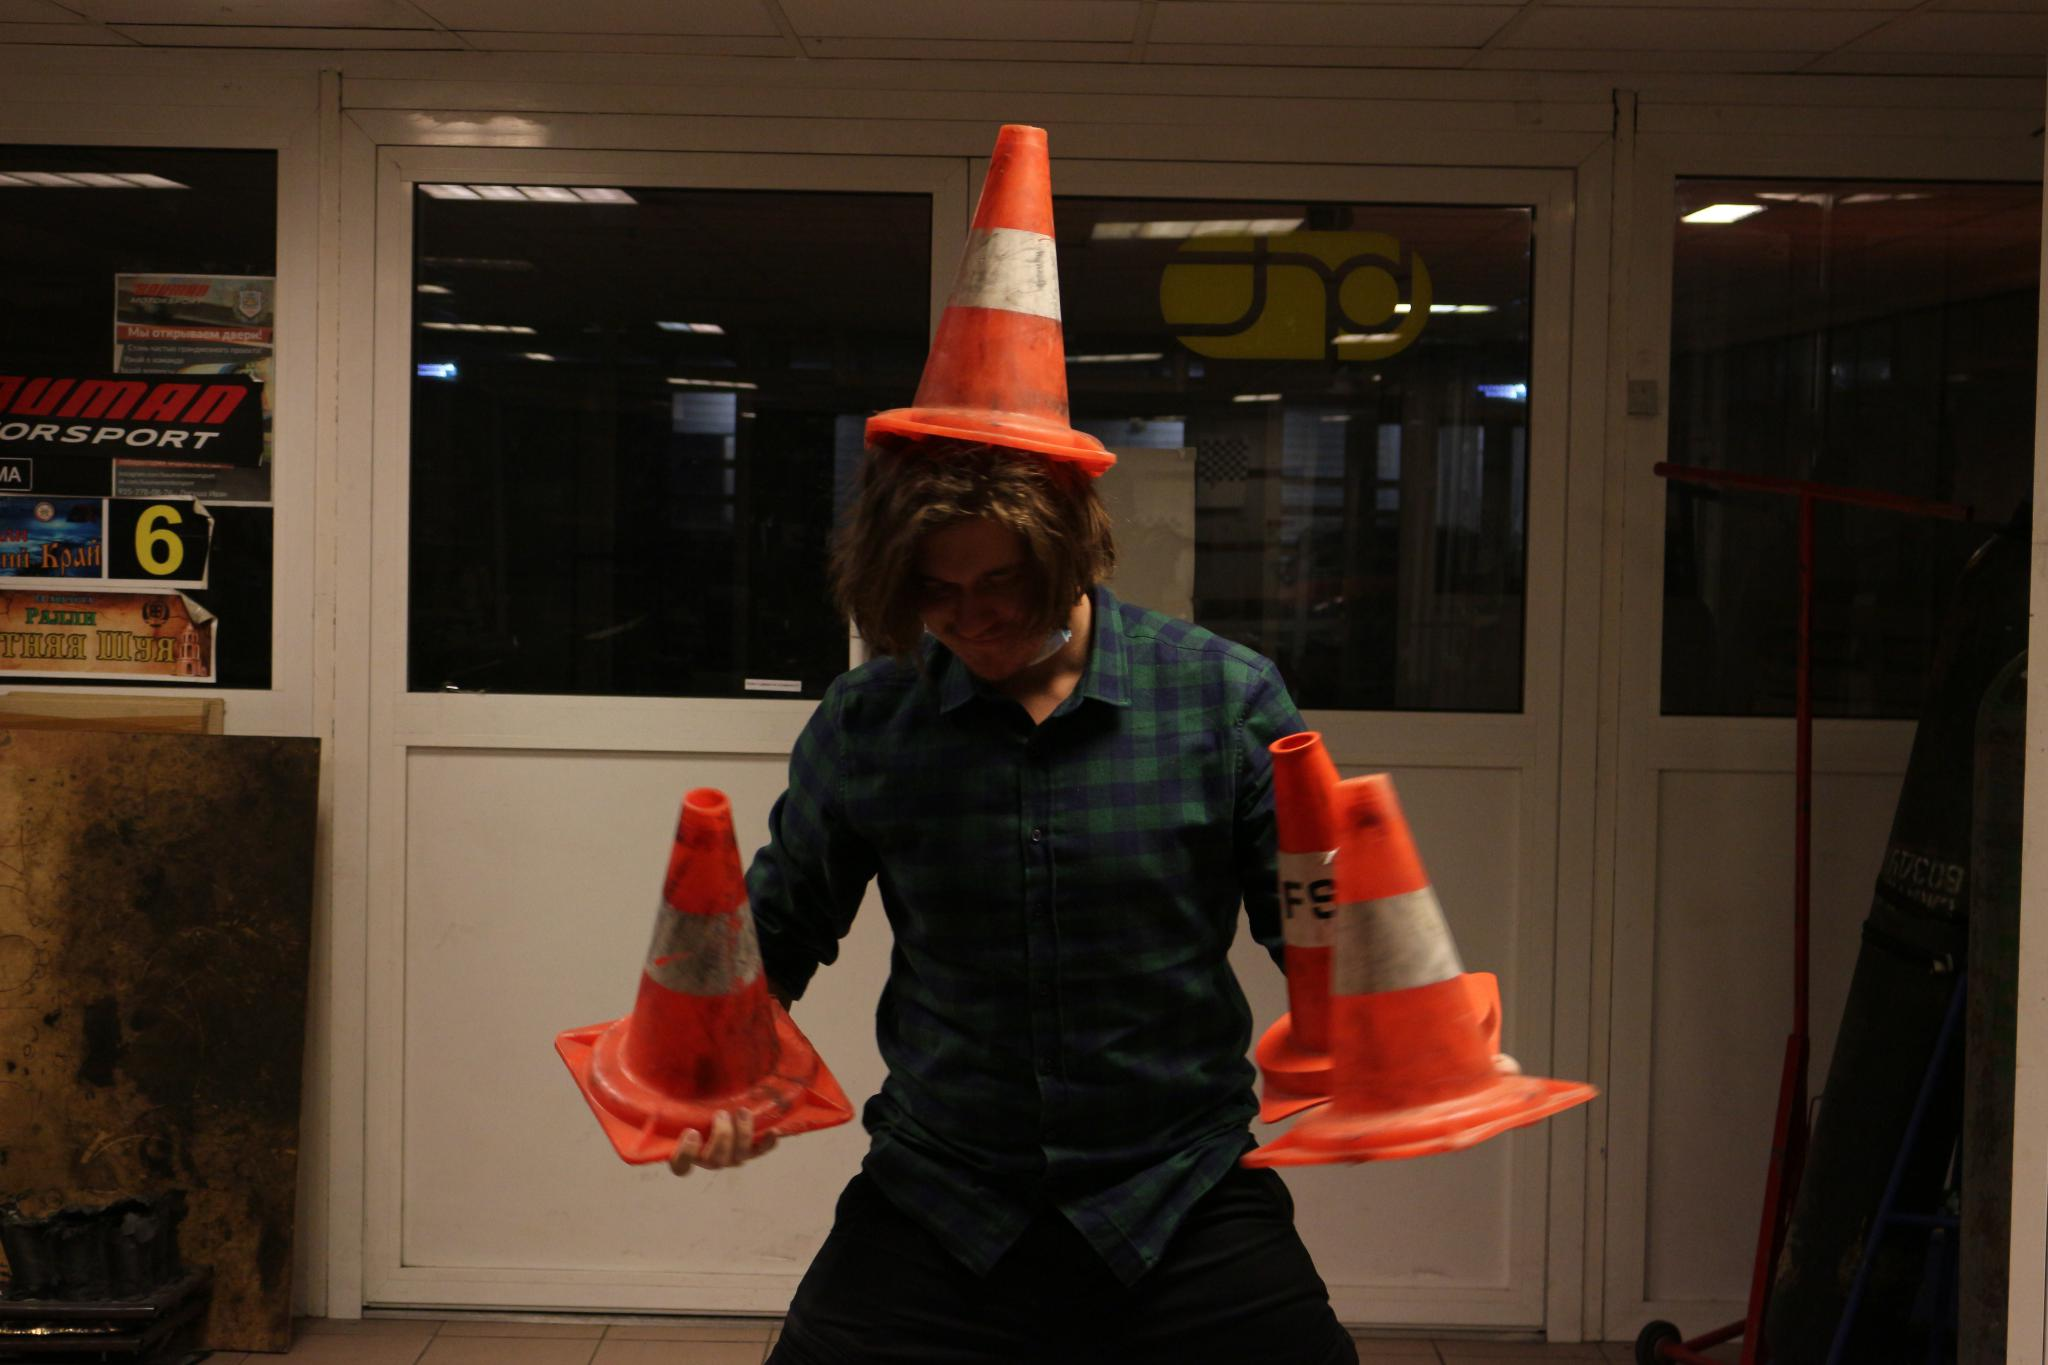Orange_Cone: (1281, 763, 1553, 1161), (1243, 719, 1507, 1071), (882, 117, 1119, 480), (586, 783, 824, 1146)
